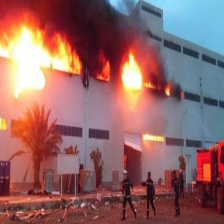fire: (6, 26, 86, 104), (120, 52, 145, 102)
smoke: (3, 1, 142, 58)
